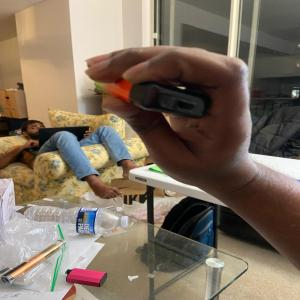Swift-E-Ciggirate: (93, 65, 216, 120)
